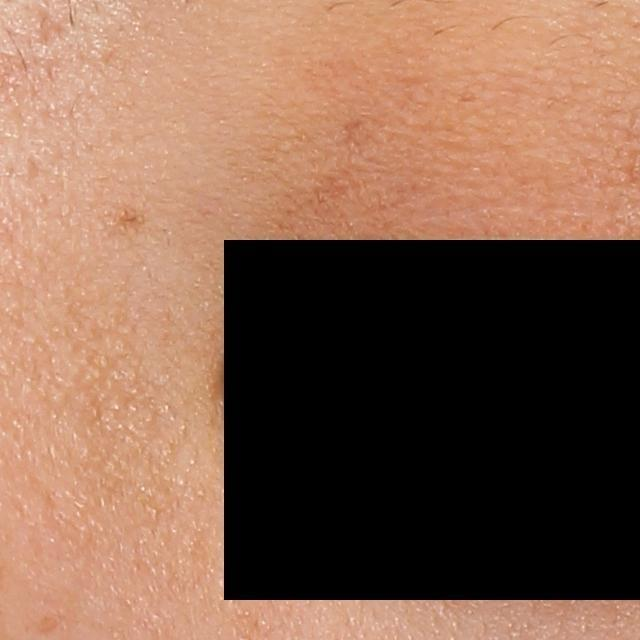atrophic_scar: (32, 1, 74, 49)
melasma: (30, 613, 65, 637)
